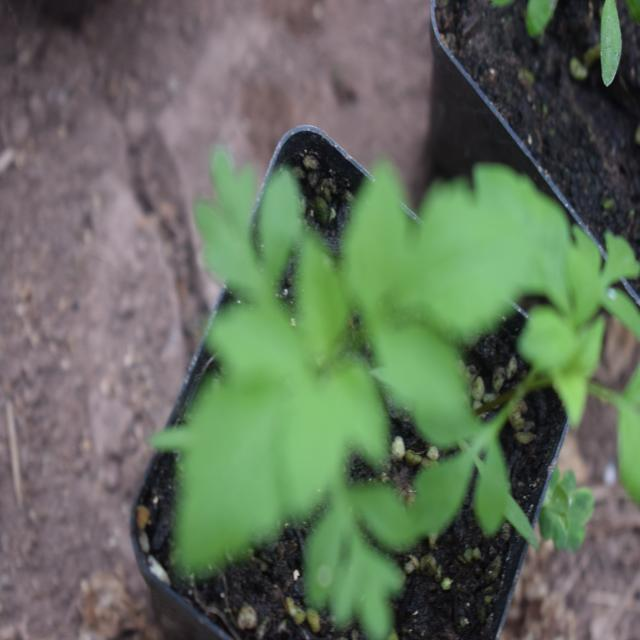Bidens pilosa: (489, 170, 640, 539)
